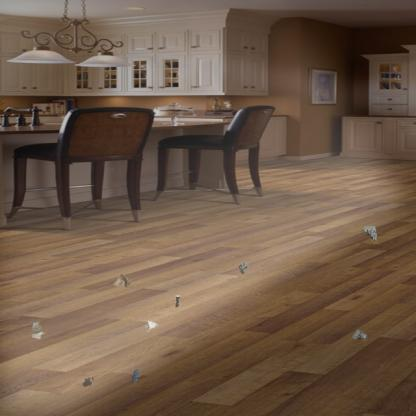dirty: (113, 272, 133, 290), (30, 320, 46, 340), (362, 224, 378, 243), (236, 258, 251, 276), (350, 328, 369, 342), (144, 319, 160, 332), (173, 294, 182, 308)
liquid: (130, 369, 142, 382), (82, 376, 94, 386)
